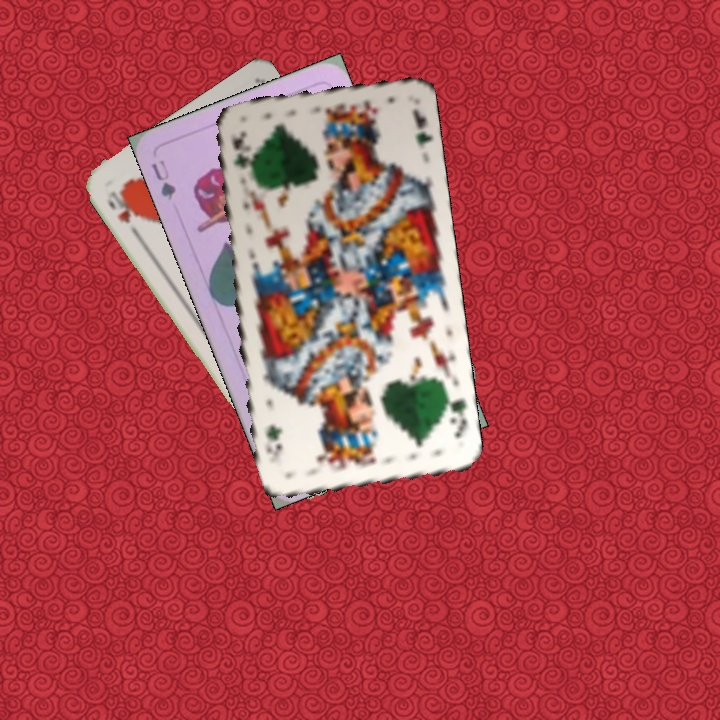GK: (441, 390, 469, 441), (227, 126, 249, 172)
GU: (146, 155, 179, 203)
HO: (104, 186, 142, 239)
